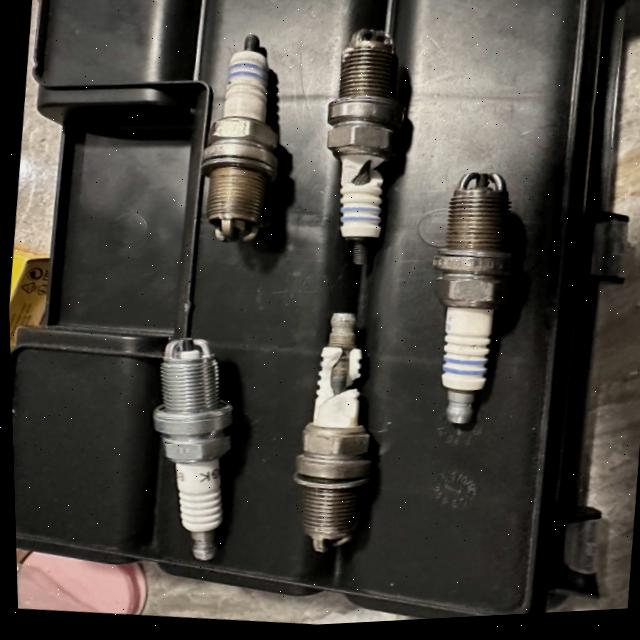damaged_spark-plug: (270, 307, 380, 568), (307, 30, 406, 277)
spark-plug: (132, 332, 259, 567), (417, 174, 519, 437), (190, 37, 298, 249)
